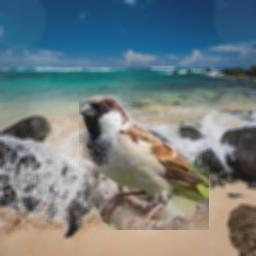Sparrow: (79, 94, 209, 230)
